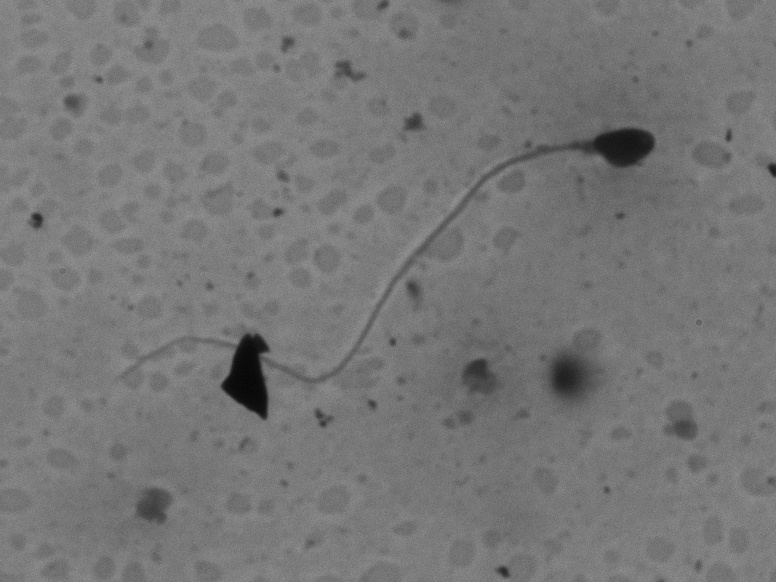Abnormal: (98, 111, 667, 413)
